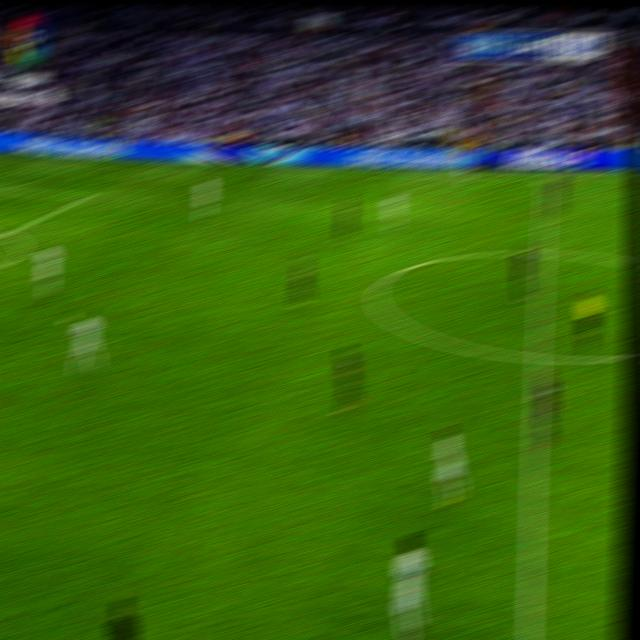halfcircle_bottom: (527, 343, 548, 368)
halfcircle_top: (532, 242, 552, 262)
midline_top_intersection: (537, 170, 554, 182)
top_arc_area_intersection: (0, 225, 16, 239)
